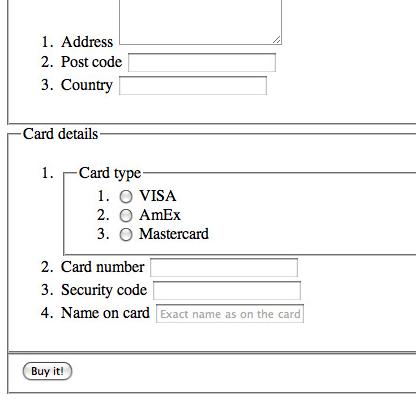button: (22, 358, 76, 383)
field: (113, 72, 273, 98), (150, 302, 306, 325), (145, 257, 299, 280), (122, 52, 277, 74), (148, 280, 301, 302)
field_with_label: (62, 255, 303, 282), (60, 302, 309, 327), (60, 279, 303, 304), (60, 71, 274, 99), (62, 50, 278, 75)
radio: (120, 205, 136, 224), (120, 225, 137, 242), (119, 189, 136, 203)
radio_with_label: (115, 225, 209, 244), (116, 205, 180, 227), (115, 187, 177, 206)
